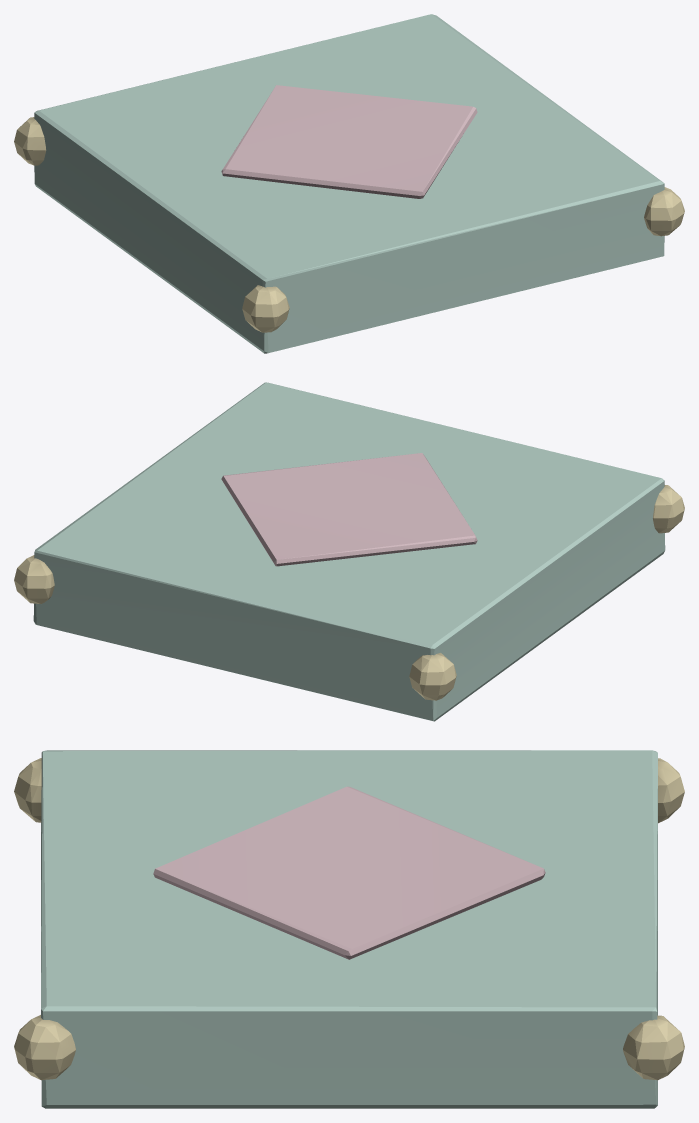
Rendered from furn_floor_cushion__mint_low.glb.
The picture shows the model from 3 angles, top to bottom: view 1: azimuth 30°, elevation 25°; view 2: azimuth 150°, elevation 25°; view 3: azimuth 270°, elevation 25°; orthographic projection. The views are drawn at different scales.
Size of the model in its own units: 0.592 by 0.1092 by 0.5963.
